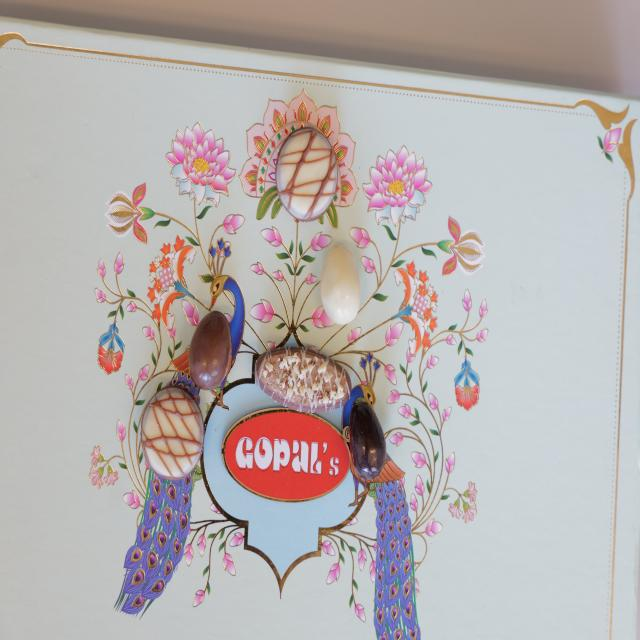Amandina: (255, 348, 352, 408)
Creme_brulee: (141, 385, 204, 480), (275, 127, 339, 219)
Jelly_Black: (349, 403, 386, 477)
Jelly_Milk: (188, 311, 230, 388)
Jelly_White: (322, 244, 359, 325)
